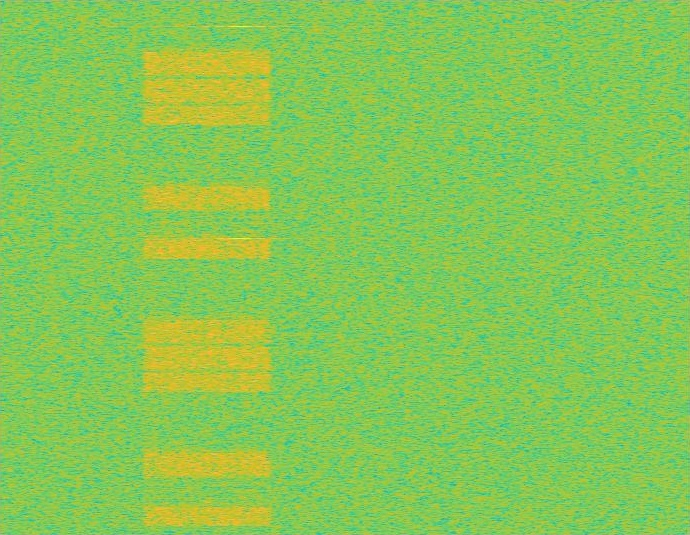LTE: (138, 0, 276, 534)
Radar: (233, 0, 247, 534)
